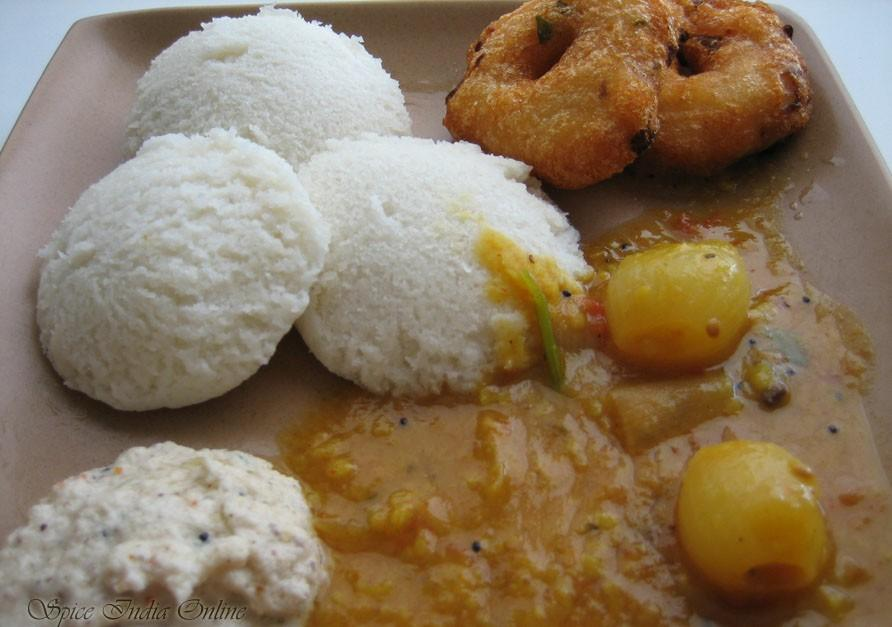Idli: (43, 125, 320, 412), (291, 129, 589, 388), (119, 7, 411, 187)
